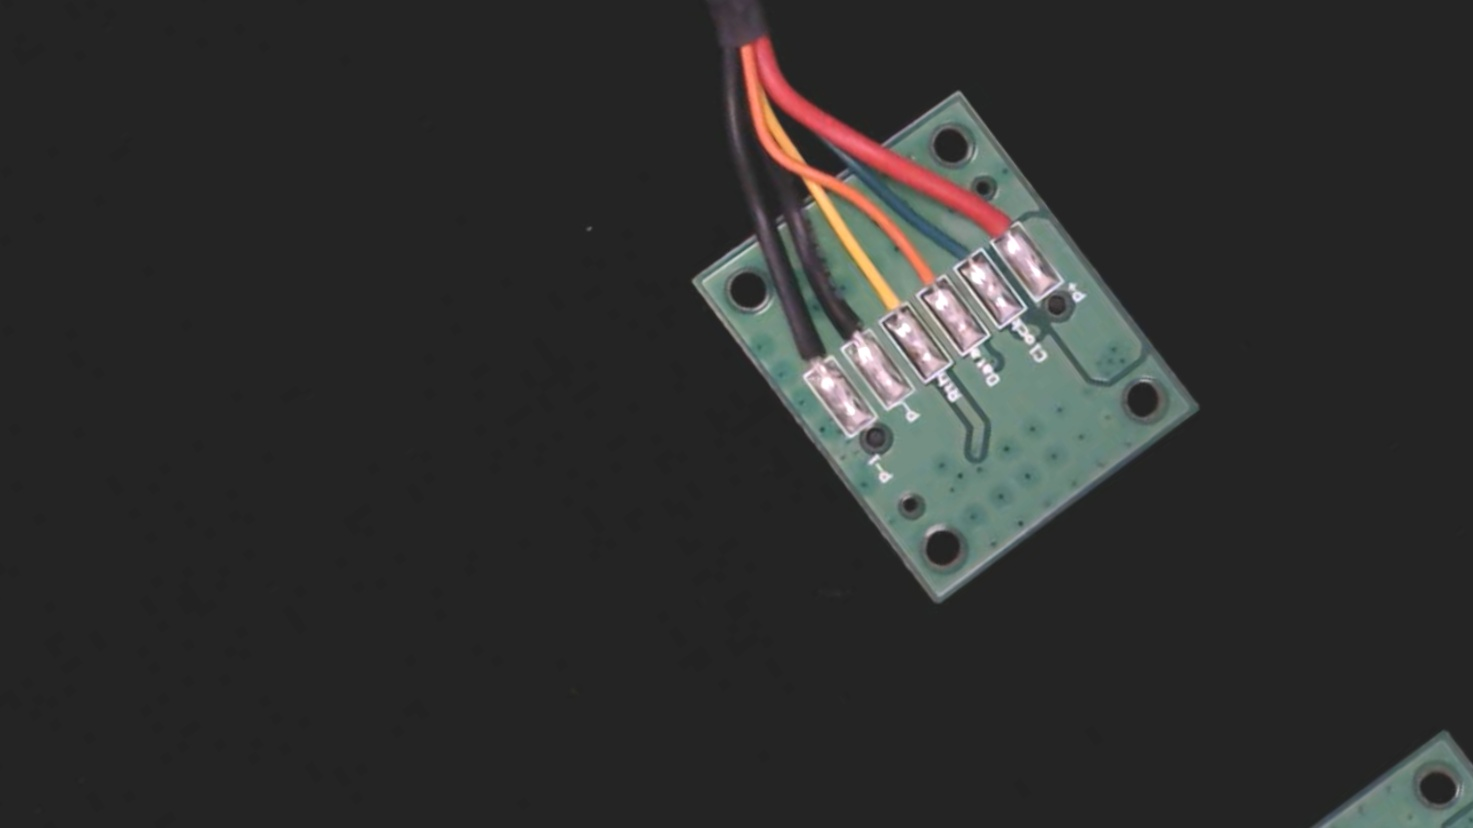Black: (798, 270, 886, 365)
Black1: (764, 305, 846, 394)
Green: (912, 199, 998, 291)
Orange: (874, 224, 958, 315)
Red: (948, 167, 1033, 258)
Yellow: (835, 247, 923, 342)
